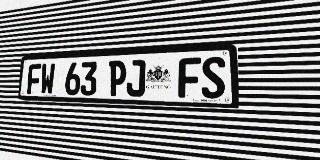3: (80, 61, 97, 96)
6: (65, 62, 81, 95)
F: (178, 57, 201, 98), (27, 64, 41, 94)
J: (126, 59, 146, 97)
P: (108, 60, 127, 96)
S: (201, 56, 225, 99)
W: (40, 63, 55, 95)
